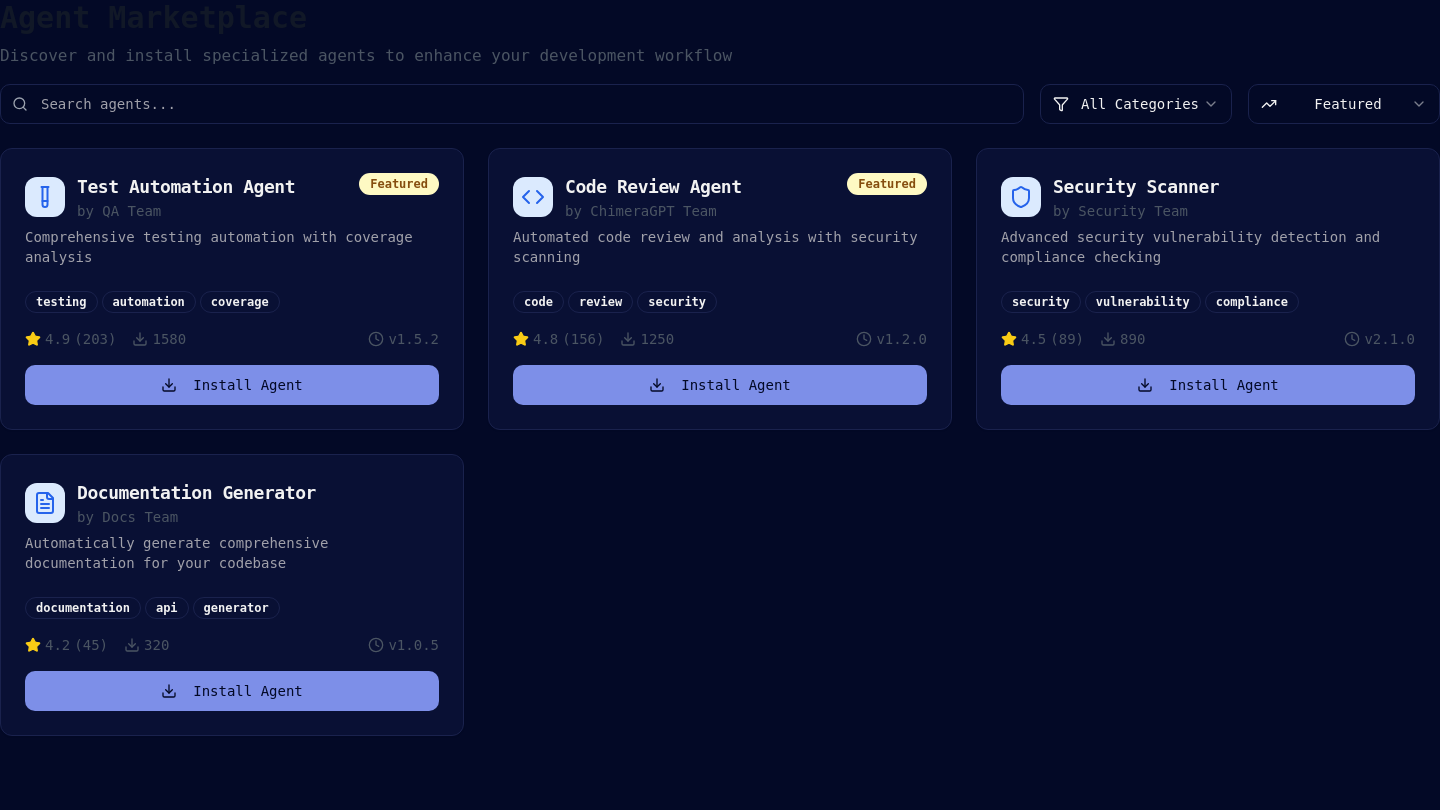
Test case: AgentMarketplace › shows loading state during installation
Expected: the text "Code Review Agent" is shown, [565, 173, 742, 201]
Open install dialog and install
Click the button "Install Agent" below "4.9". click: {"x": 232, "y": 385}
box: [25, 365, 439, 405]
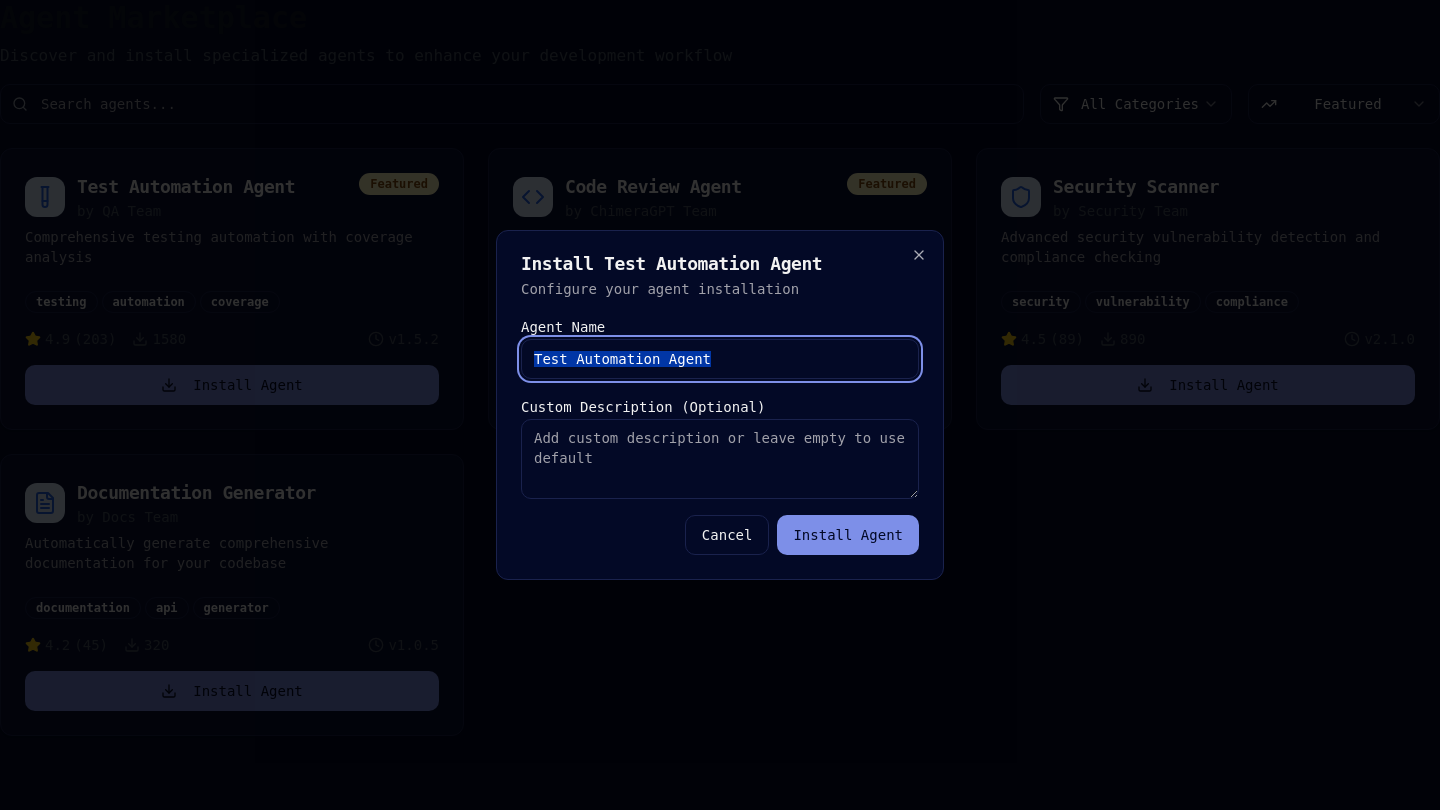
Click the button "Install Agent". click: {"x": 848, "y": 535}
box: [777, 515, 919, 555]
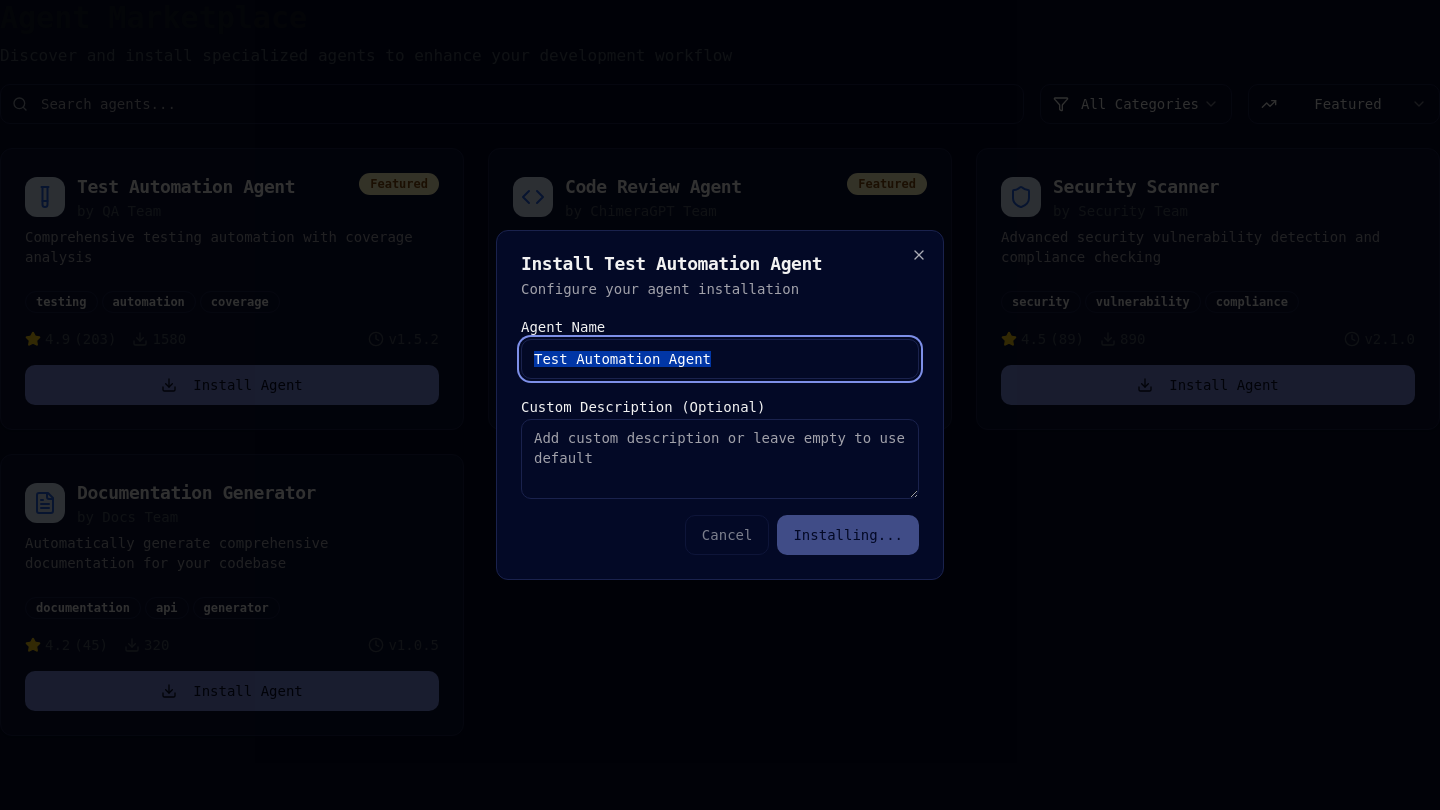
Now the button "Installing..." is disabled, box [777, 515, 919, 555]
